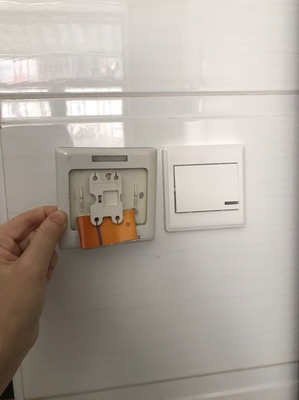switch: (174, 157, 241, 215)
